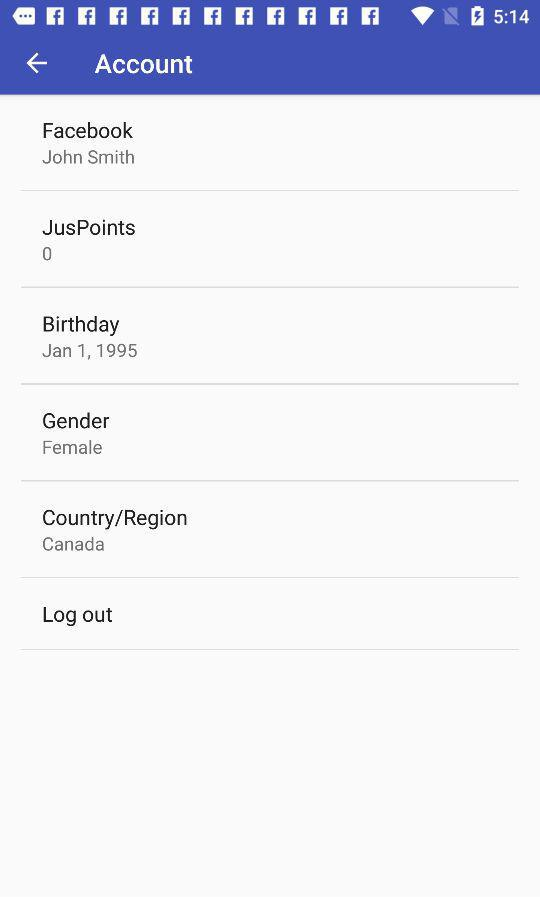Icon: (27, 52, 49, 75)
Text: (43, 509, 188, 531), (95, 54, 194, 76), (43, 343, 139, 361), (44, 315, 121, 337), (42, 220, 136, 237), (44, 123, 135, 140), (43, 607, 113, 627), (42, 150, 135, 165), (43, 412, 111, 430), (43, 536, 106, 552), (43, 439, 103, 455), (44, 247, 53, 261)
Toolbar: (1, 36, 540, 96)
UpperTaskBar: (1, 1, 540, 28)
